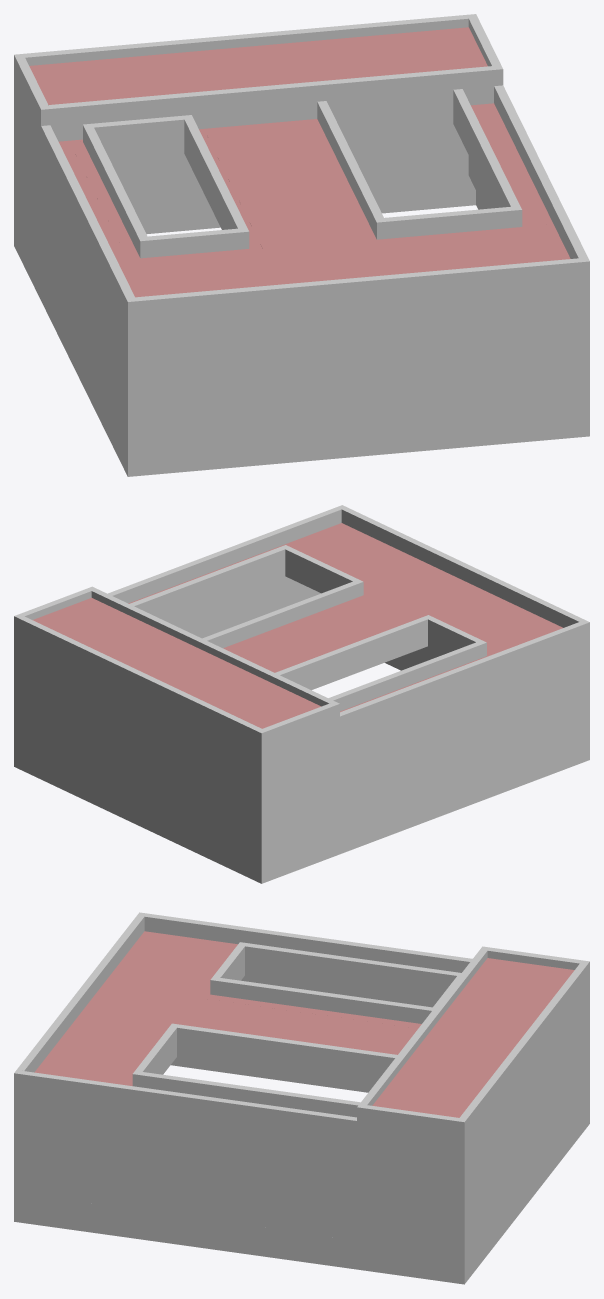
The model's file is LOD_Block_2_11.glb.
The picture shows the model from 3 angles, top to bottom: view 1: azimuth 30°, elevation 25°; view 2: azimuth 150°, elevation 25°; view 3: azimuth 270°, elevation 25°; orthographic projection. The views are drawn at different scales.
Parts seen in each view (by area): view 1: mesh_CityEngineMaterial_148; view 2: mesh_CityEngineMaterial_148; view 3: mesh_CityEngineMaterial_148.
Boxes of the visible parts, box(x1,y1,x2,y2) form: mesh_CityEngineMaterial_148: box(14, 14, 589, 476); mesh_CityEngineMaterial_148: box(14, 505, 589, 883); mesh_CityEngineMaterial_148: box(14, 912, 589, 1284).
Bounding box in the file's own units: 33.01 × 11.17 × 35.93.
